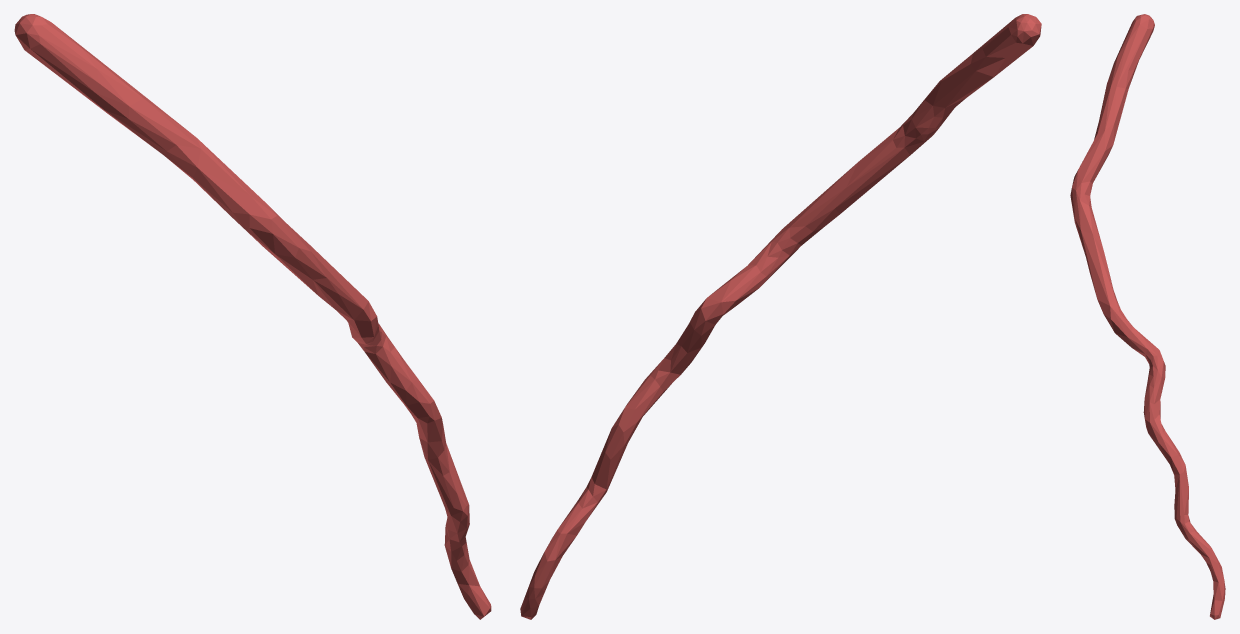
3 renders of one model, left to right at view 1: azimuth 30°, elevation 25°; view 2: azimuth 150°, elevation 25°; view 3: azimuth 270°, elevation 25°, orthographic. The views are drawn at different scales.
Parts seen in each view (by area): view 1: FJ2651; view 2: FJ2651; view 3: FJ2651.
Boxes of the visible parts, x1,y1,x2,y2 form: FJ2651: [14, 14, 491, 619]; FJ2651: [520, 14, 1041, 619]; FJ2651: [1070, 14, 1225, 619].
Bounding box in the file's own units: 16.88 × 23.29 × 7.15.
